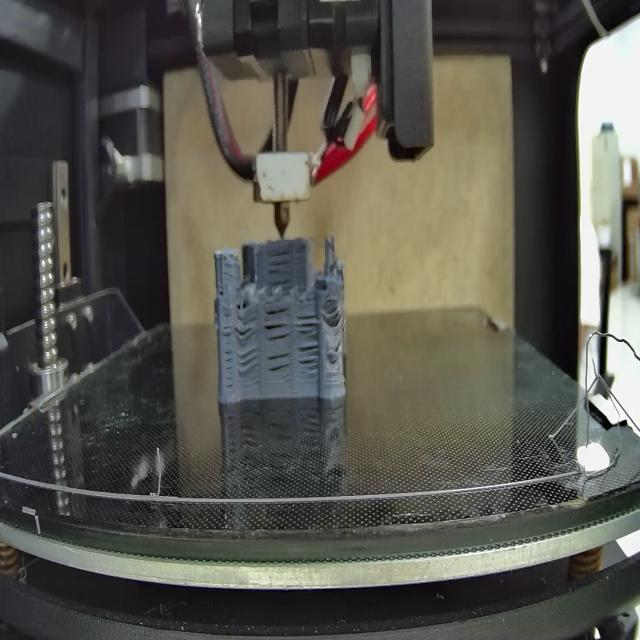cracks: (266, 243, 293, 290), (266, 348, 293, 390), (264, 305, 292, 341), (222, 314, 233, 387), (297, 344, 320, 378), (235, 310, 258, 342), (294, 310, 320, 337), (237, 350, 260, 380), (329, 305, 342, 321), (217, 284, 228, 301), (334, 339, 343, 357)
